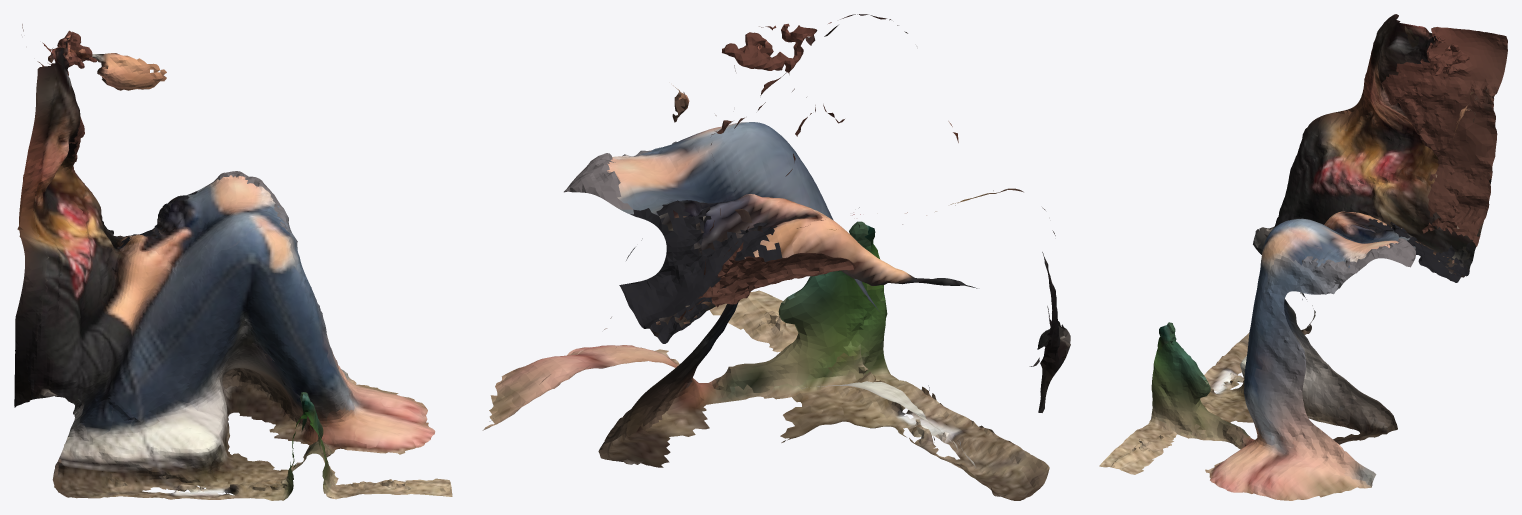
3 renders of one model, left to right at view 1: azimuth 30°, elevation 25°; view 2: azimuth 150°, elevation 25°; view 3: azimuth 270°, elevation 25°, orthographic. The views are drawn at different scales.
Bounding box in the file's own units: 0.7947 × 0.7081 × 0.77.
Materials: 1 (1 with a texture image).
